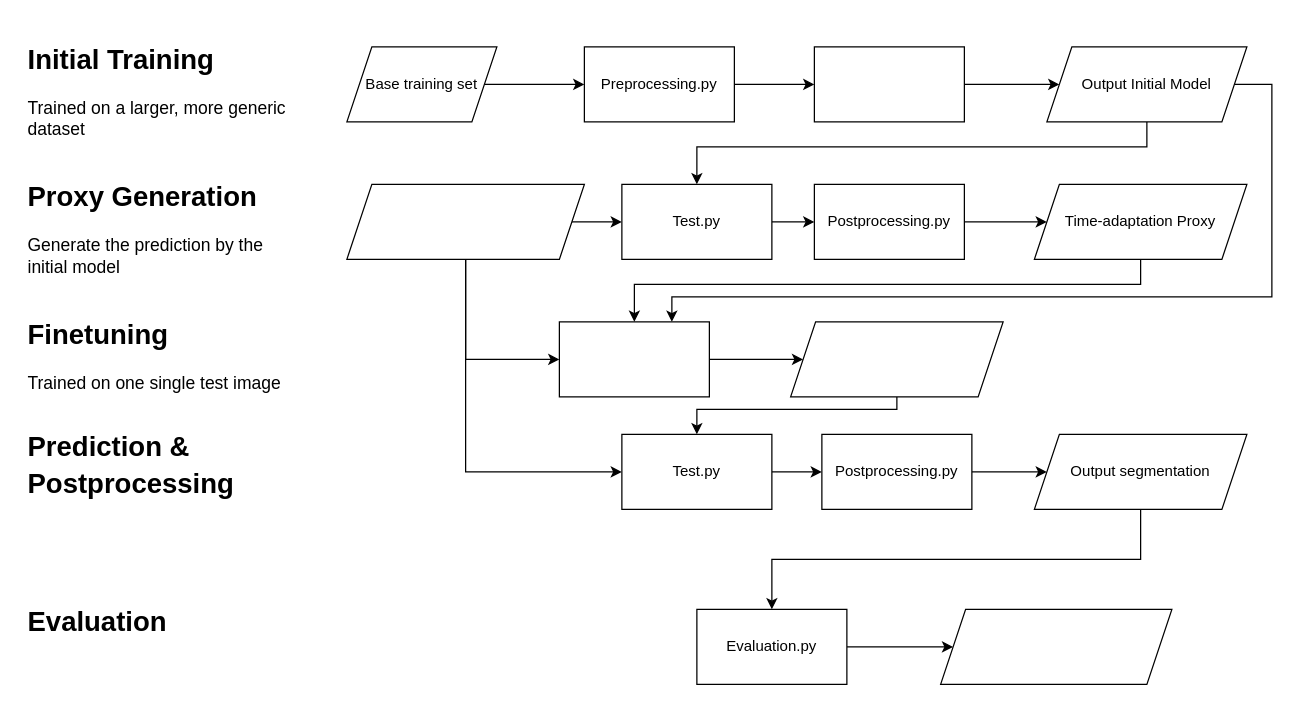
Image size: 1304x718. Some labels were removed from this diagram. Each missing label, with the centre of its shape:
"Output finetuned Model" goes at point 896,359.
"Radar plot of 5 metric scores" goes at point 1055,646.
"Retrain.py" goes at point 633,359.
"Test image (Preprocessed)" goes at point 465,221.
"Train.py" goes at point 888,84.
